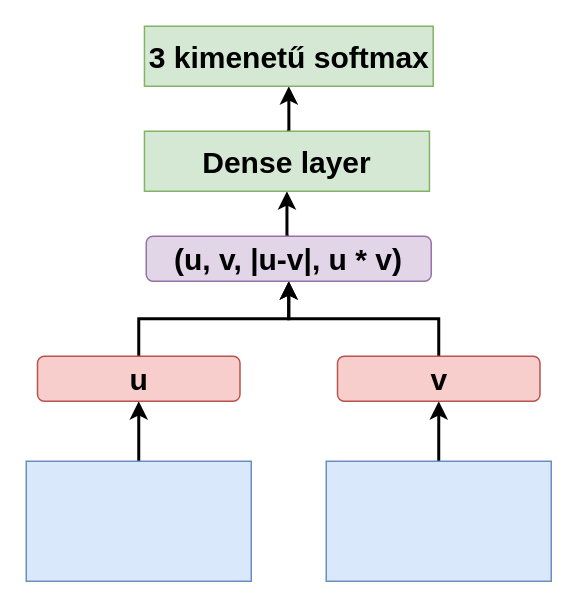
This 578x608 diagram has some shape labels left out. Each missing label, with the centre of its shape:
Mondatszintű enkóder A mondattal: the point at 138,520
Mondatszintű enkóder B mondattal: the point at 438,520
